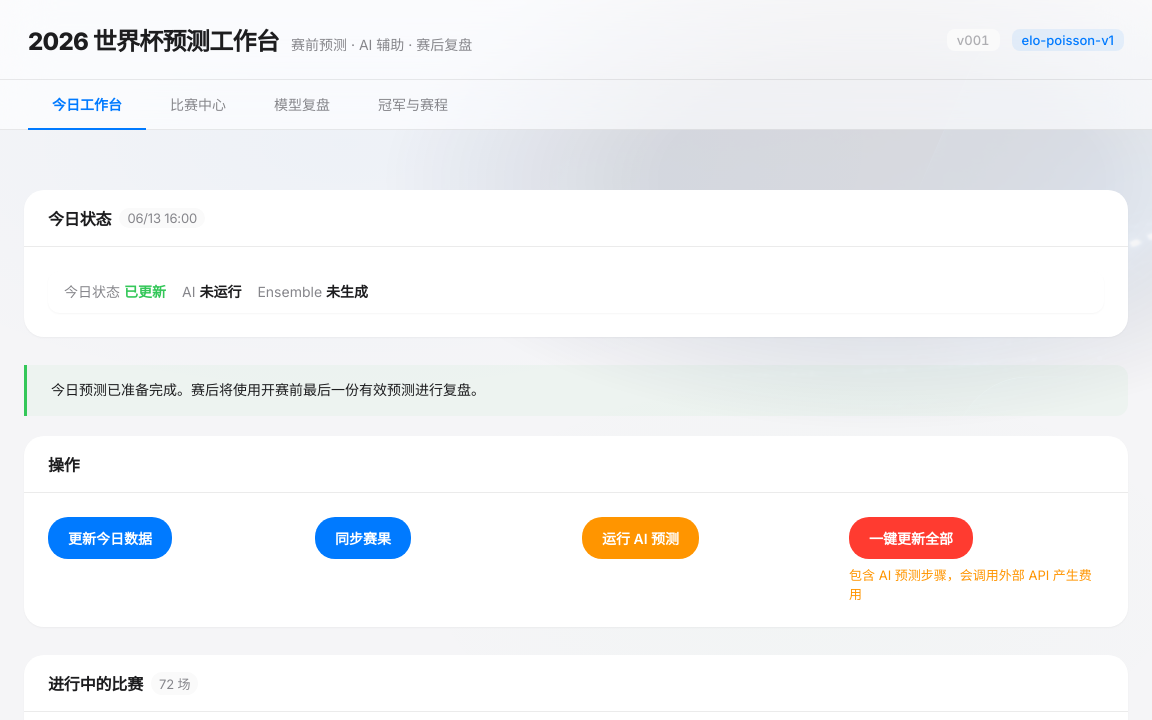
Test: shows profile evaluation section in model review
Click the tab "模型复盘" at point(302, 105), box [250,80,354,130]
(page scrolled)
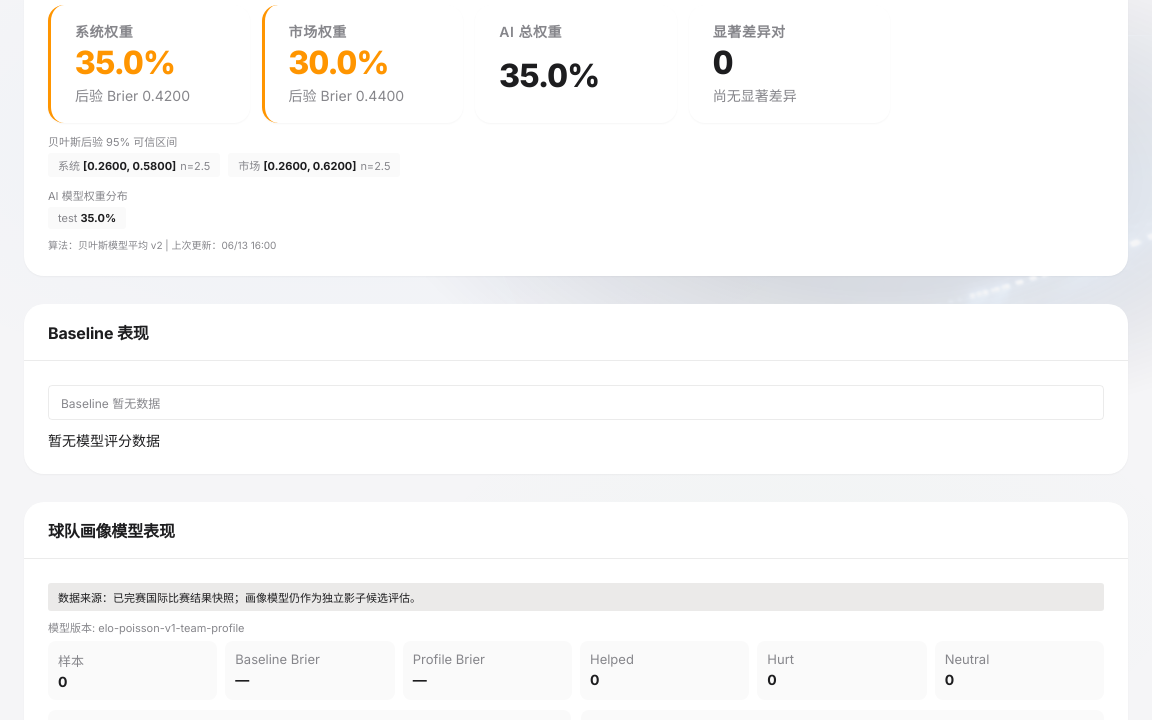
Check: the heading "球队画像模型表现" is shown, box [48,518,175,542]
